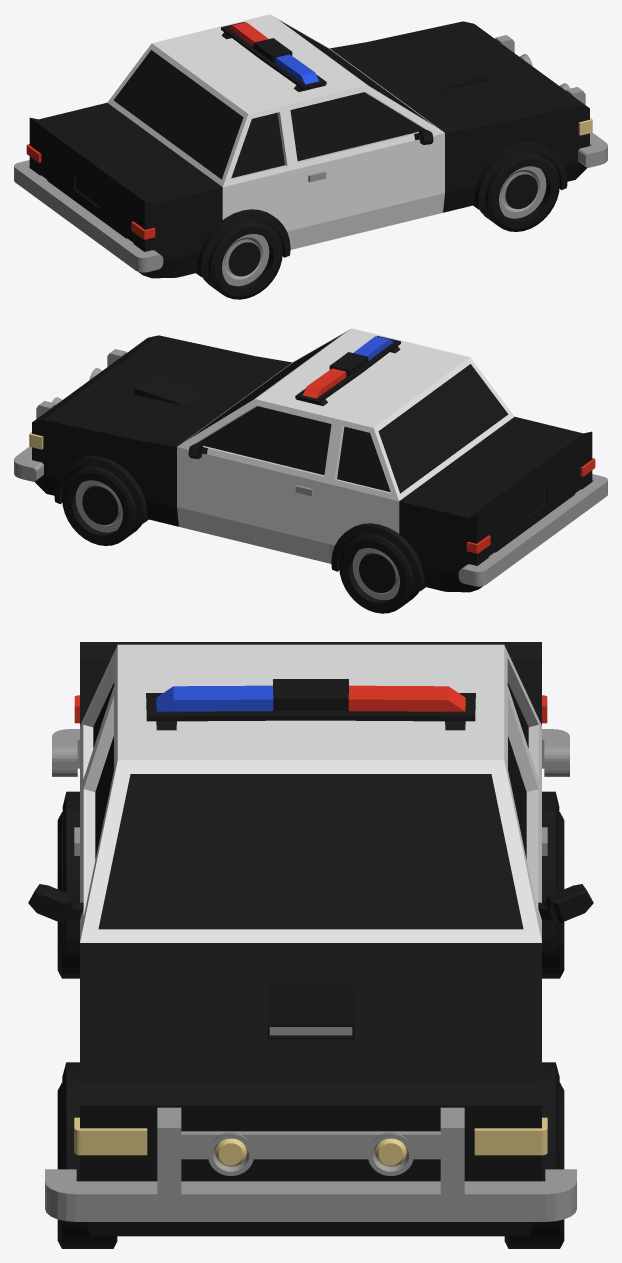
File: PoliceCar.fbx
3 views of the same model, one above another, from view 1: azimuth 30°, elevation 25°; view 2: azimuth 150°, elevation 25°; view 3: azimuth 270°, elevation 25° (orthographic). The views are drawn at different scales.
Visible parts, largest first — view 1: Body, Wheel_RR, Wheel_FR; view 2: Body, Wheel_RL, Wheel_FL; view 3: Body, Wheel_FR, Wheel_FL, Wheel_RR, Wheel_RL.
Boxes of the visible parts, box(x1,y1,x2,y2) form: Body: box(14, 14, 607, 278); Wheel_RR: box(202, 219, 282, 299); Wheel_FR: box(479, 152, 559, 231); Body: box(14, 328, 607, 592); Wheel_RL: box(339, 533, 419, 613); Wheel_FL: box(62, 466, 142, 545); Body: box(28, 642, 593, 1236); Wheel_FR: box(57, 1082, 117, 1248); Wheel_FL: box(504, 1082, 564, 1248); Wheel_RR: box(57, 812, 79, 978); Wheel_RL: box(542, 812, 564, 978).
Size of the model in its own units: 220 by 424 by 158.
